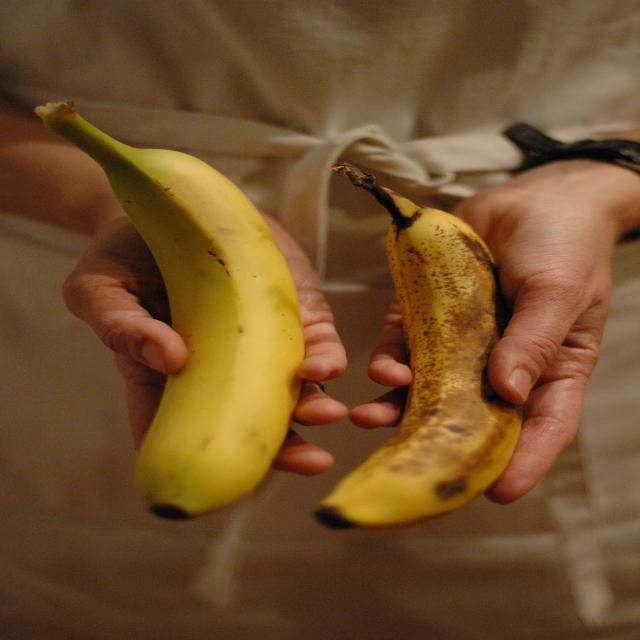Banana: (17, 100, 309, 525), (334, 163, 526, 541)
